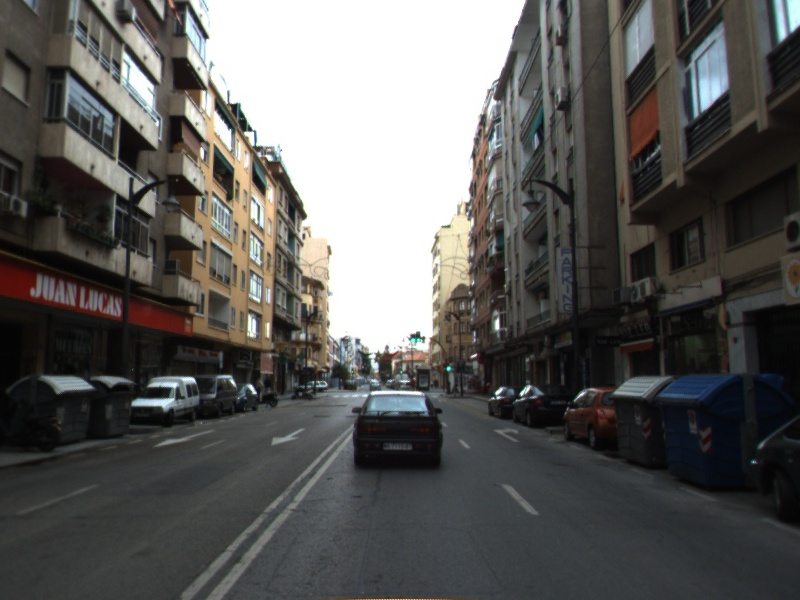RIGHT: (492, 425, 522, 444)
